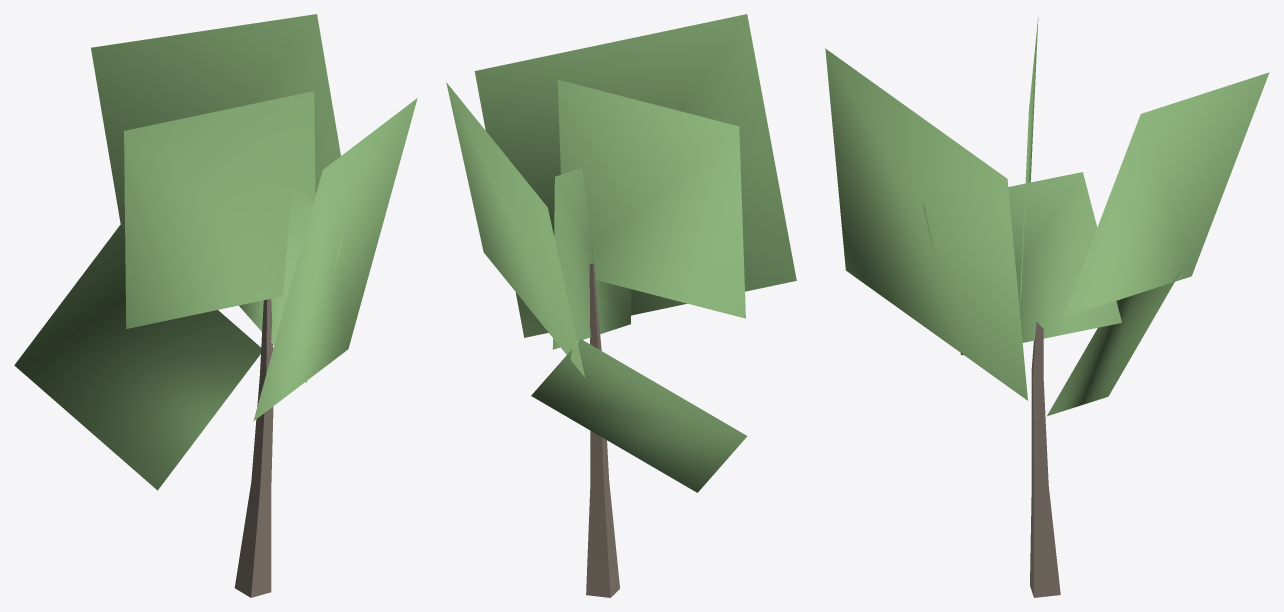
Rendered from tree_apple_fruit_a_lod2.glb.
The picture shows the model from 3 angles, left to right: view 1: azimuth 30°, elevation 25°; view 2: azimuth 150°, elevation 25°; view 3: azimuth 270°, elevation 25°; orthographic projection. The views are drawn at different scales.
Visible parts, largest first — view 1: tree_apple_fruit_a_lod2; view 2: tree_apple_fruit_a_lod2; view 3: tree_apple_fruit_a_lod2.
Part boxes in pixels (box(x1,y1,x2,y2)): tree_apple_fruit_a_lod2: box(14, 14, 417, 597); tree_apple_fruit_a_lod2: box(446, 14, 796, 597); tree_apple_fruit_a_lod2: box(825, 17, 1269, 597).
Size of the model in its own units: 4.98 by 7.28 by 5.5.
